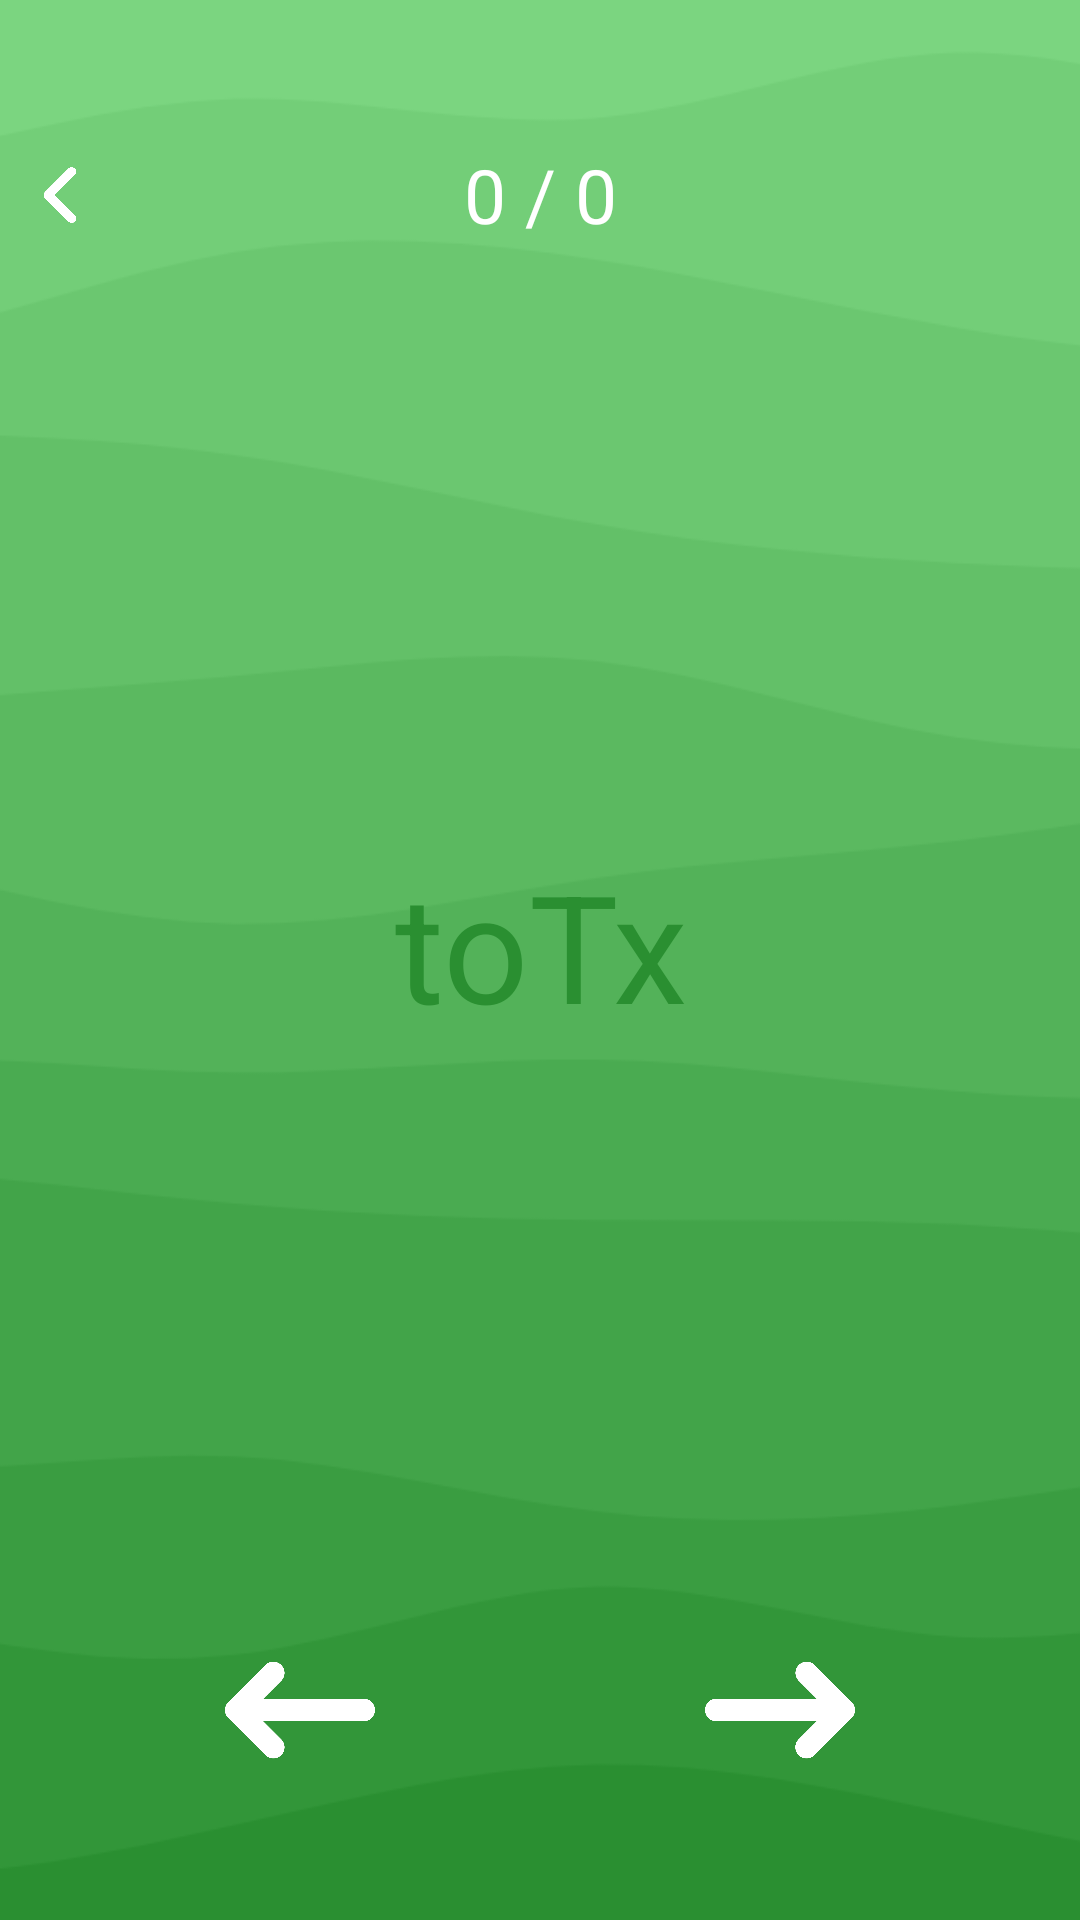

Point at icon controls on the screen. Image size 1080*1920, points as point (x, y).
back: point (60, 195)
left: point (300, 1710)
right: point (780, 1710)
